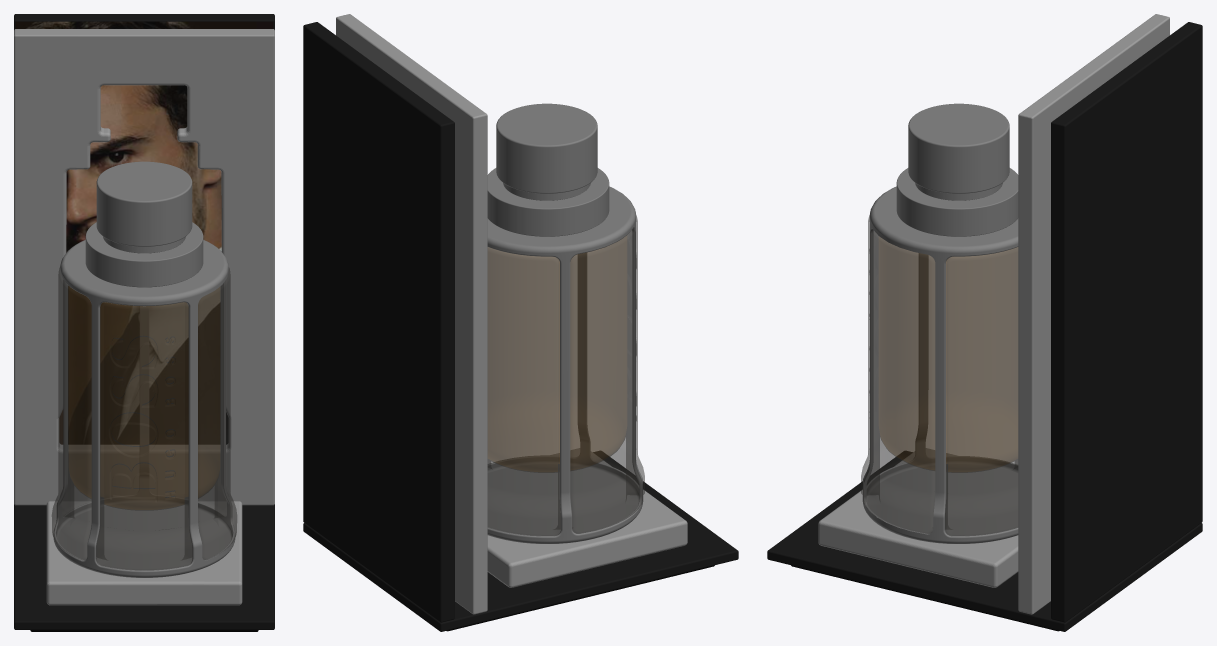
The model's file is hugo_bottle.glb.
3 views of the same model, side by side, from view 1: azimuth 30°, elevation 25°; view 2: azimuth 150°, elevation 25°; view 3: azimuth 270°, elevation 25° (orthographic). The views are drawn at different scales.
Parts seen in each view (by area): view 1: Man_Display_Silver_Man_Display_Silver_0, Man_Bottle_Man_Bottle_0, Man_Silver_Man_Silver_0, Man_Display_Image_Man_Display_Image_0, Man_Inner_Man_Inner_0, Man_Display_Back_Man_Display_Back_0, Man_Display_Socket_Man_Display_Socket_0; view 2: Man_Display_Back_Man_Display_Back_0, Man_Bottle_Man_Bottle_0, Man_Silver_Man_Silver_0, Man_Display_Silver_Man_Display_Silver_0, Man_Inner_Man_Inner_0; view 3: Man_Display_Back_Man_Display_Back_0, Man_Bottle_Man_Bottle_0, Man_Silver_Man_Silver_0, Man_Display_Silver_Man_Display_Silver_0, Man_Inner_Man_Inner_0.
Part boxes in pixels (left/top/right/bottom): Man_Display_Silver_Man_Display_Silver_0: left=14, top=29, right=274, bottom=605; Man_Bottle_Man_Bottle_0: left=51, top=267, right=237, bottom=570; Man_Silver_Man_Silver_0: left=53, top=161, right=235, bottom=577; Man_Display_Image_Man_Display_Image_0: left=15, top=21, right=273, bottom=444; Man_Inner_Man_Inner_0: left=69, top=287, right=219, bottom=509; Man_Display_Back_Man_Display_Back_0: left=14, top=14, right=274, bottom=629; Man_Display_Socket_Man_Display_Socket_0: left=30, top=630, right=258, bottom=631; Man_Display_Back_Man_Display_Back_0: left=303, top=22, right=738, bottom=631; Man_Bottle_Man_Bottle_0: left=487, top=215, right=644, bottom=536; Man_Silver_Man_Silver_0: left=487, top=103, right=643, bottom=543; Man_Display_Silver_Man_Display_Silver_0: left=336, top=14, right=687, bottom=614; Man_Inner_Man_Inner_0: left=488, top=236, right=626, bottom=471; Man_Display_Back_Man_Display_Back_0: left=767, top=22, right=1202, bottom=631; Man_Bottle_Man_Bottle_0: left=861, top=215, right=1018, bottom=536; Man_Silver_Man_Silver_0: left=862, top=103, right=1018, bottom=543; Man_Display_Silver_Man_Display_Silver_0: left=818, top=14, right=1169, bottom=614; Man_Inner_Man_Inner_0: left=879, top=237, right=1017, bottom=471.
Size of the model in its own units: 11.89 by 16.53 by 12.62.
7 materials, 1 textured.
